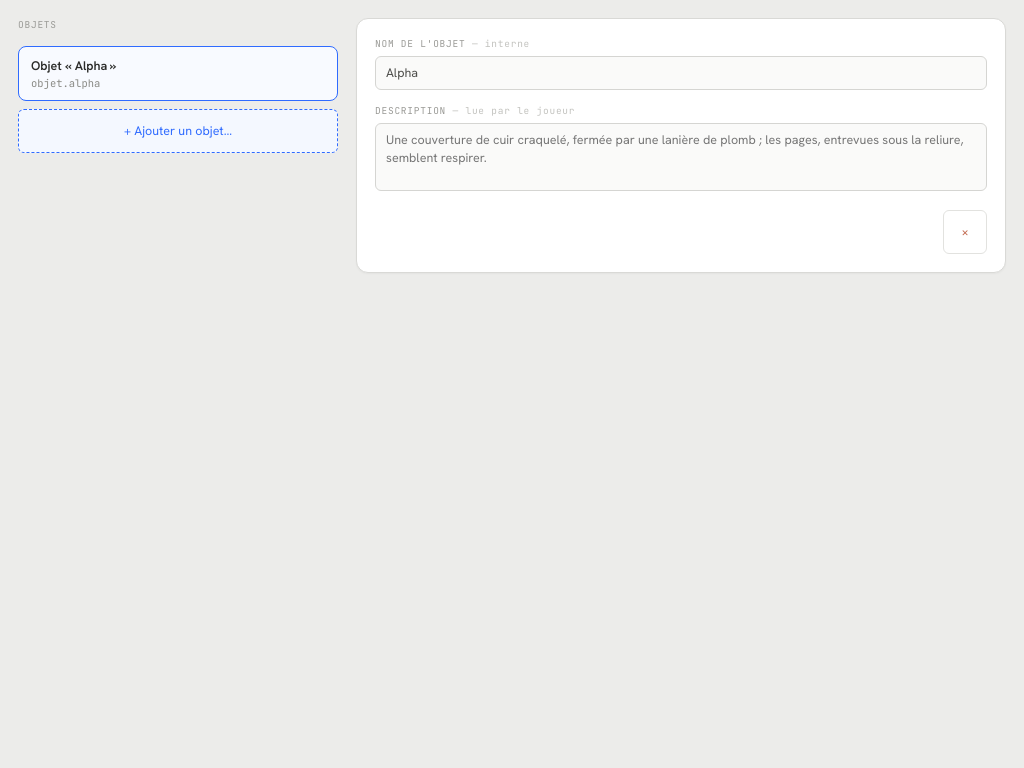
Scenario: PanneauObjets - retrait › retrait du dernier objet: liste vide, focus sur + Ajouter
Click the button named "Retirer l'objet « Alpha »" at (965, 232), box [943, 210, 987, 254]
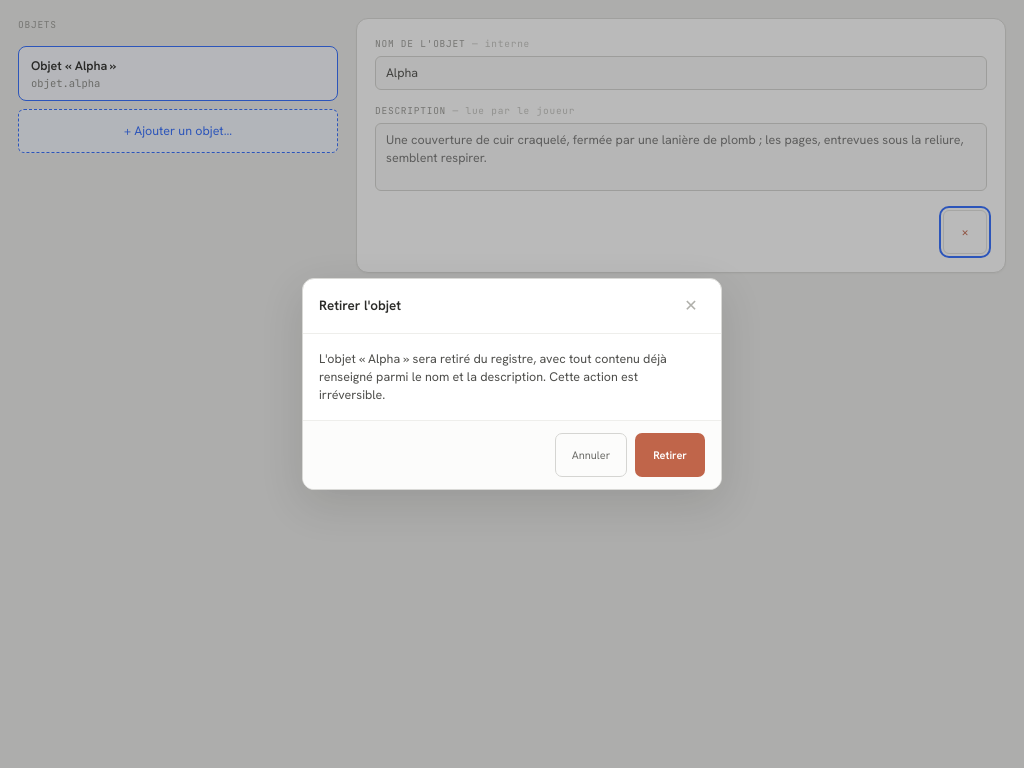
Click the button "Retirer" at (670, 455), box [635, 433, 705, 477]
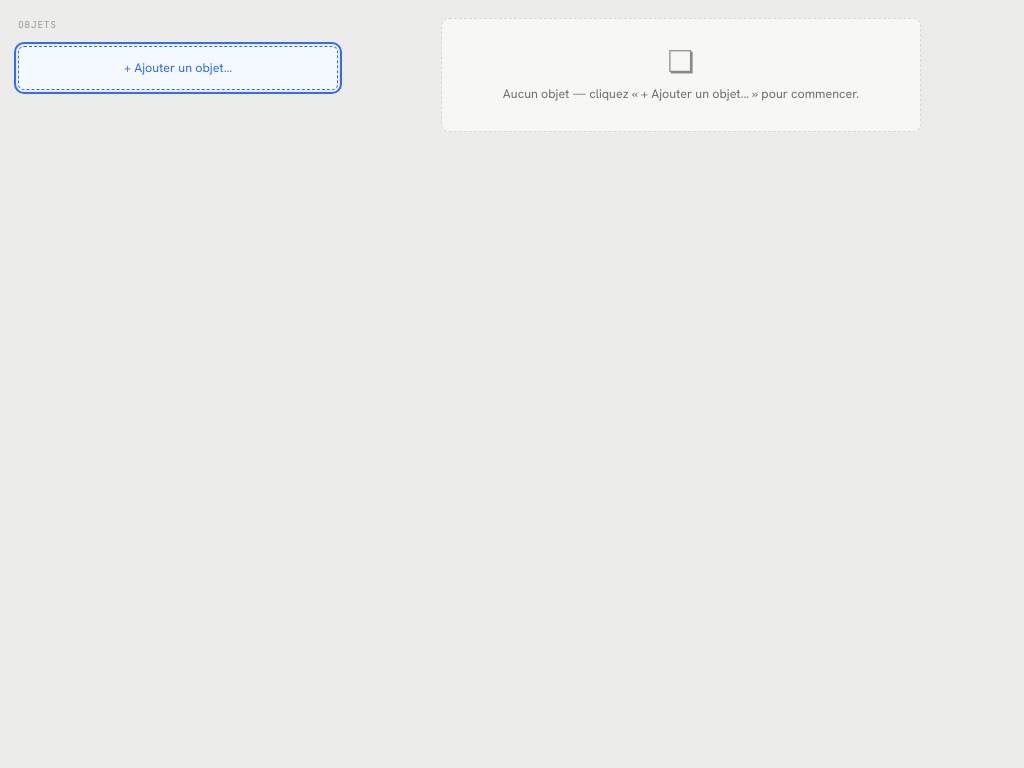
expect the dialog is gone: met
expect the text "Aucun objet — cliquez « + Ajouter un objet… » pour commencer." is shown: met, box [503, 85, 859, 103]
